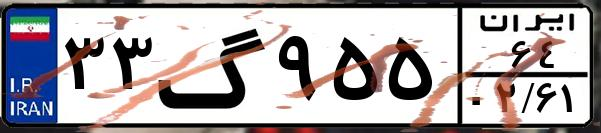0: (470, 70, 495, 125)
1: (560, 70, 590, 125)
2: (495, 70, 520, 125)
3: (57, 26, 110, 100), (110, 28, 156, 98)
4: (537, 27, 568, 80)
5: (385, 28, 445, 110), (330, 28, 385, 110)
6: (508, 27, 537, 80), (535, 70, 560, 125)
9: (270, 28, 330, 110)
گ: (156, 12, 270, 120)
